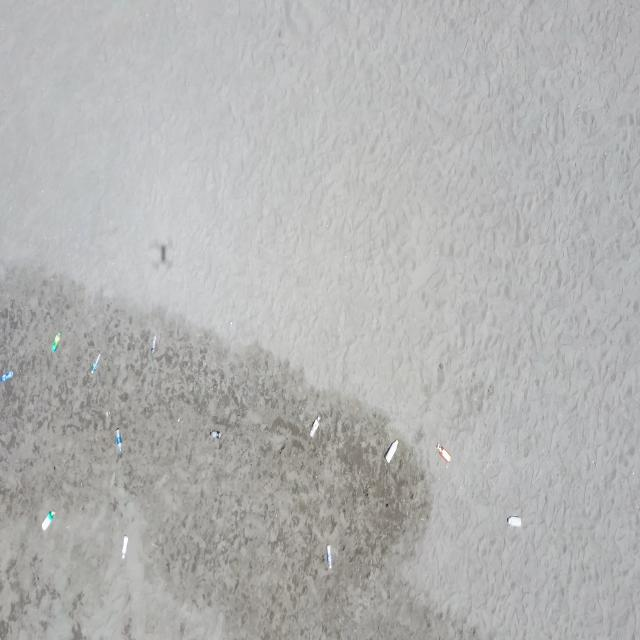Garbage: (384, 440, 397, 462), (436, 443, 451, 462), (308, 415, 320, 436), (40, 511, 54, 529), (89, 352, 100, 372), (324, 544, 332, 568), (51, 332, 60, 352), (120, 535, 127, 559), (115, 428, 121, 455), (507, 515, 520, 527), (0, 371, 12, 382), (160, 243, 166, 261), (151, 335, 156, 352), (209, 431, 219, 439)
